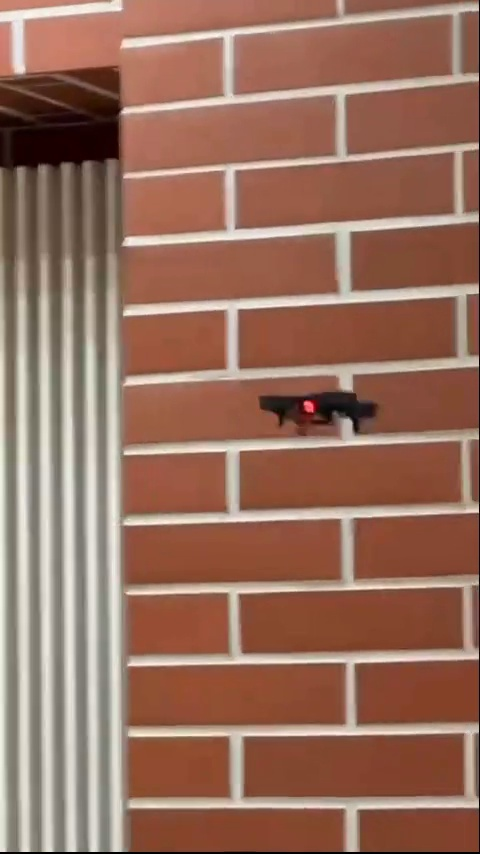drone: (259, 382, 378, 437)
